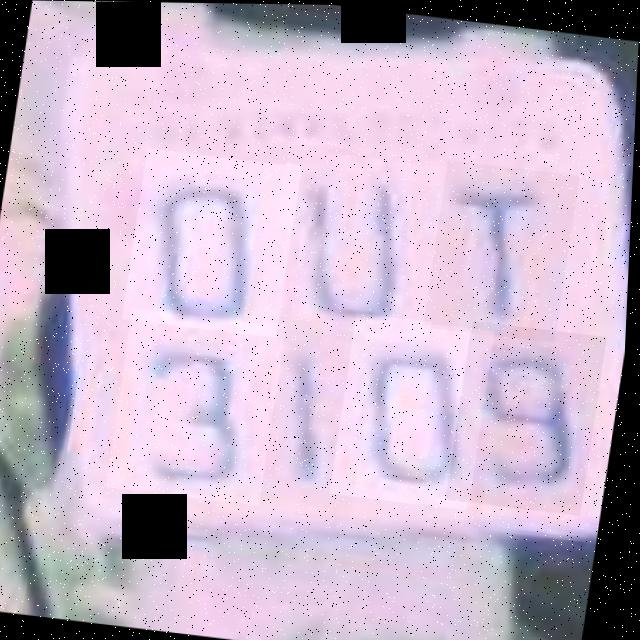0: (332, 313, 497, 509)
1: (235, 314, 382, 520)
3: (109, 307, 289, 504)
9: (450, 319, 610, 514)
O: (124, 148, 303, 337)
T: (425, 158, 581, 341)
U: (264, 147, 456, 346)
